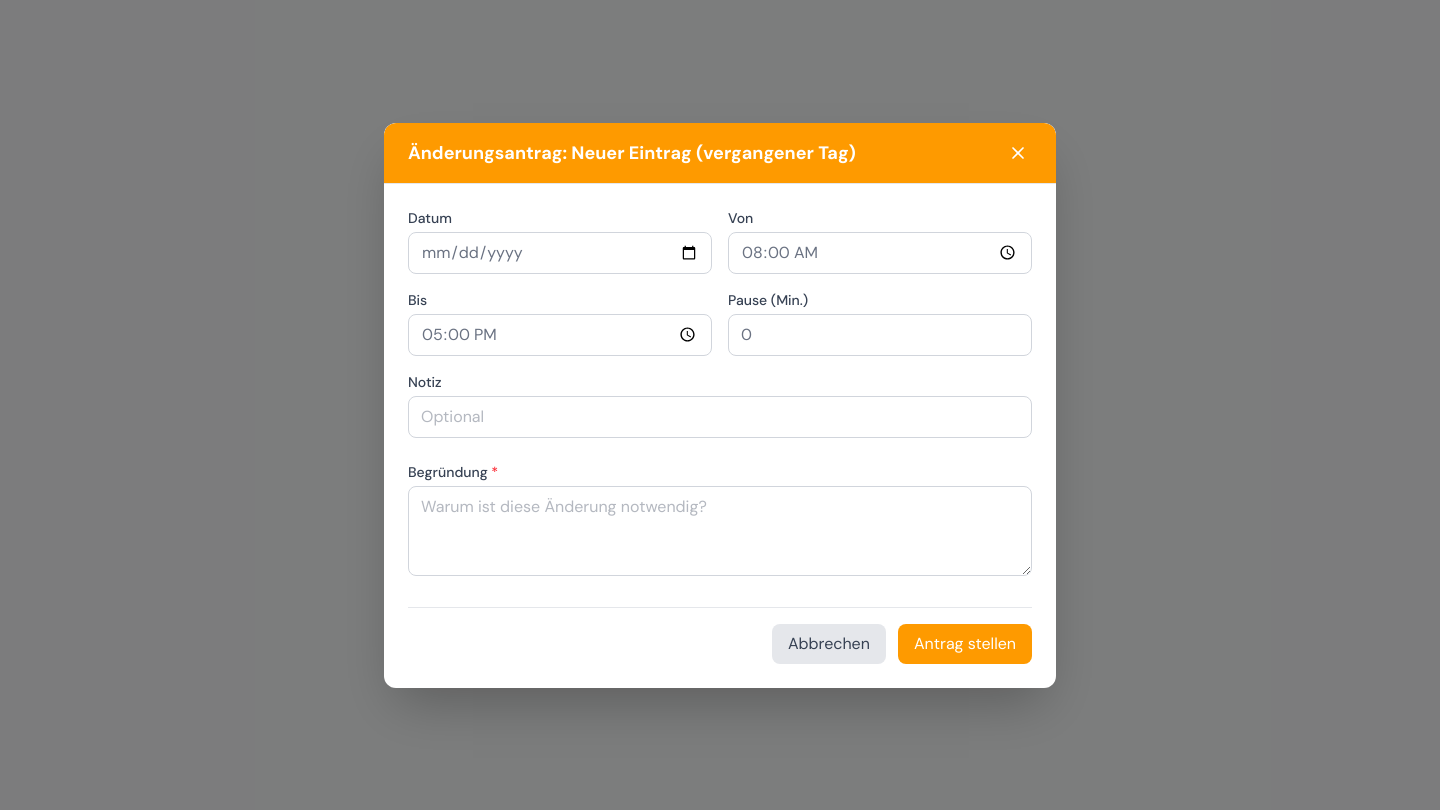
Test: <ChangeRequestForm /> Pflicht-Pause-Ausnahme (#499) › bietet kein Begründungsfeld an, wenn die Praxis die Ausnahme abgeschaltet hat
Type "vergessen" into the text box with placeholder "Warum ist diese Änderung notwendig?" at (720, 530), box [408,486,1032,576]
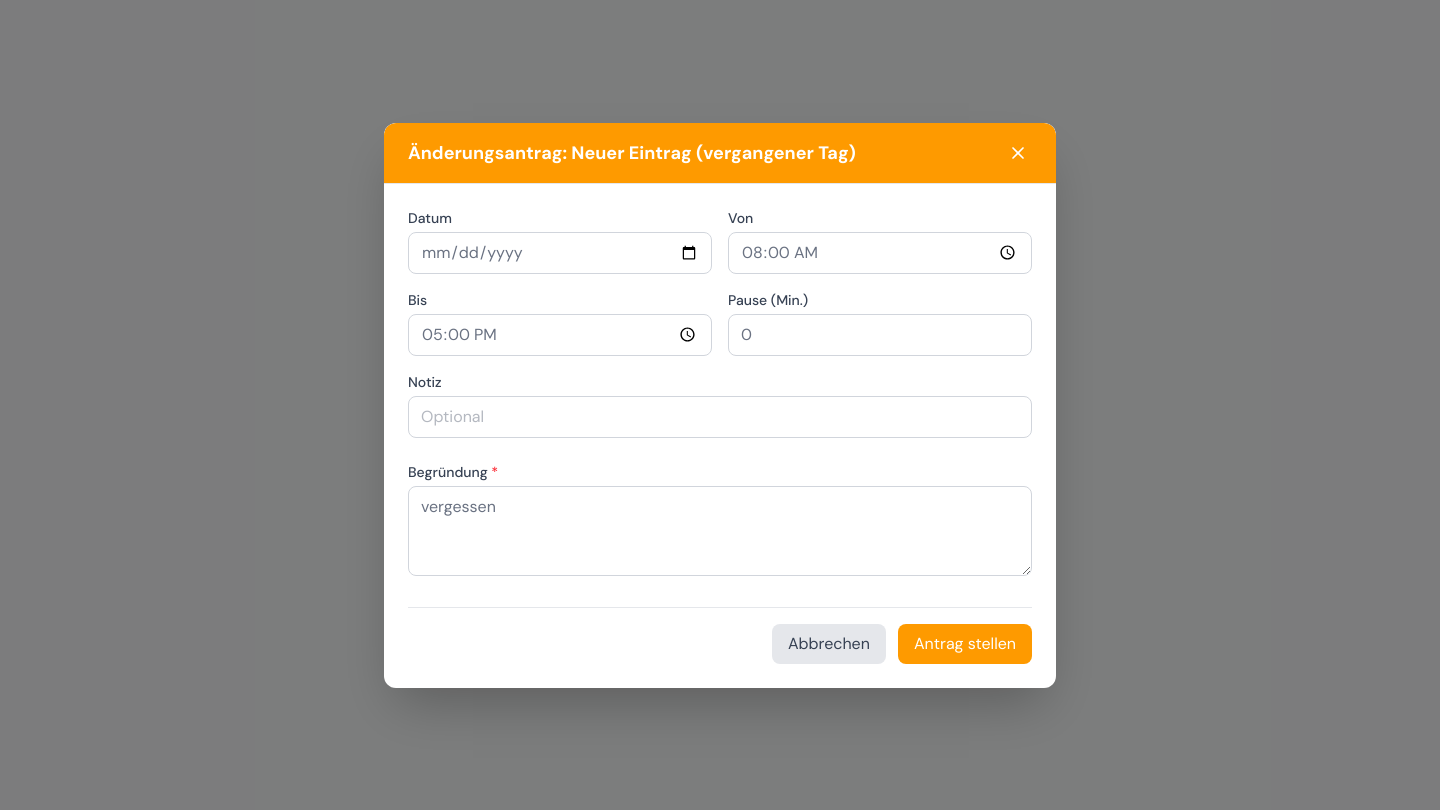
Submit the form, box [384,184,1056,688]
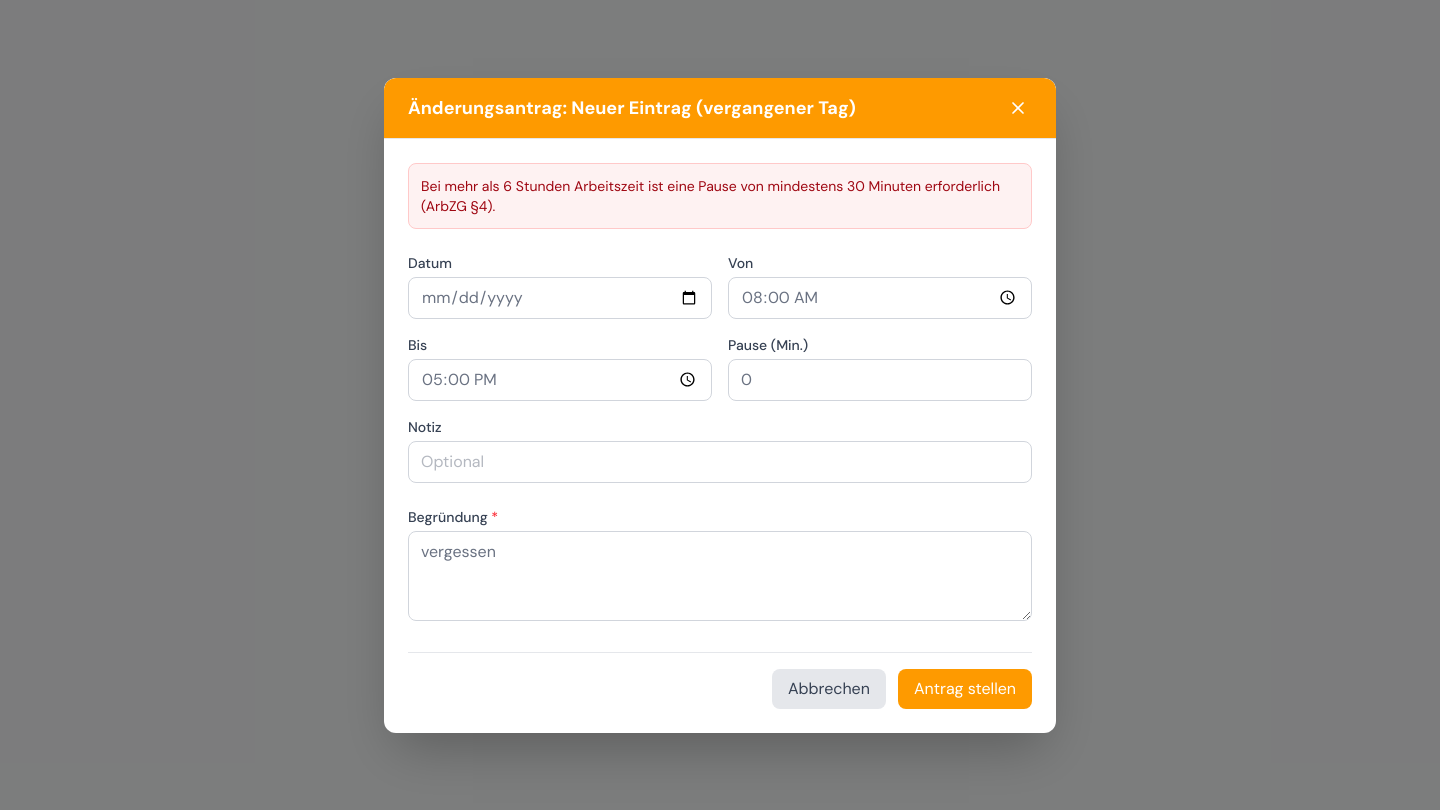
Expected: the text "ArbZG §4" is shown, [421,176,1000,214]
